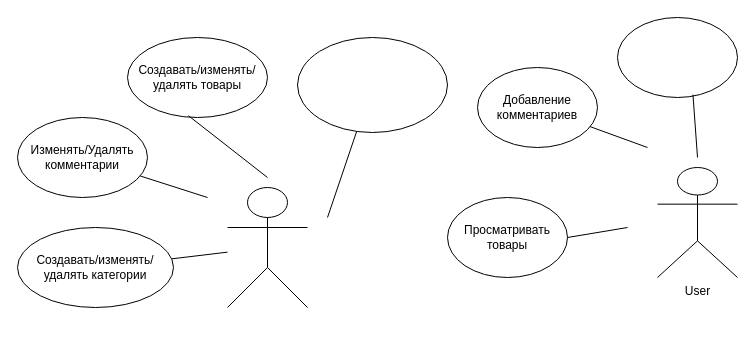
This 755x346 diagram has some shape labels left out. The centre of each missing label's shape, as x and y in pixels:
Admin: [267,247]
Оформления и просмотр заказов: [677,57]
Создавать/изменять/удалять пользователей: [372,84]
